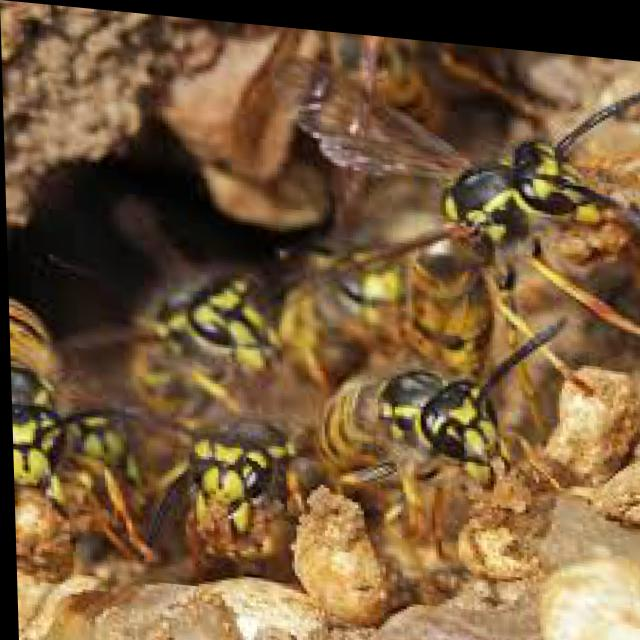Vespa Crabro: (290, 53, 639, 405), (278, 310, 536, 511), (7, 283, 150, 595), (71, 217, 311, 402), (159, 356, 338, 570)
